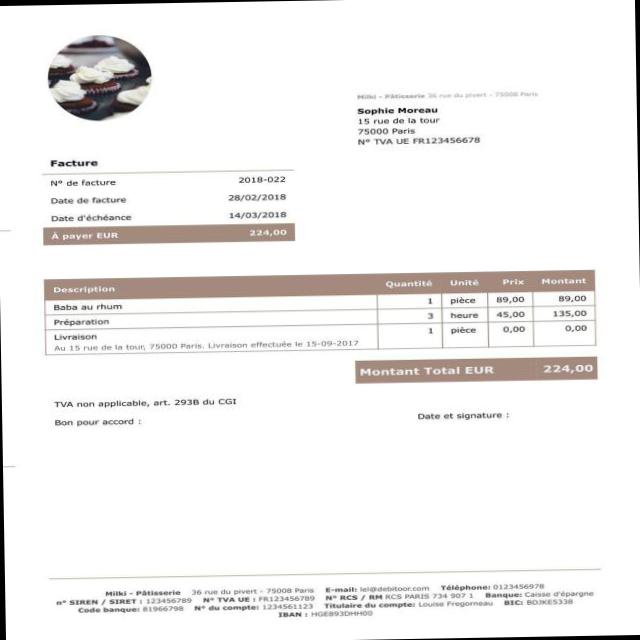due_date: (224, 207, 290, 220)
invoice_date: (223, 190, 290, 206)
invoice_number: (235, 170, 288, 184)
invoice_total: (534, 359, 596, 376)
item_description: (47, 296, 360, 354)
item_quantity: (417, 295, 438, 340)
item_total_price: (548, 293, 594, 334)
item_unit_price: (492, 293, 530, 337)
supplier_address: (354, 114, 442, 135)
supplier_name: (354, 103, 444, 115)
